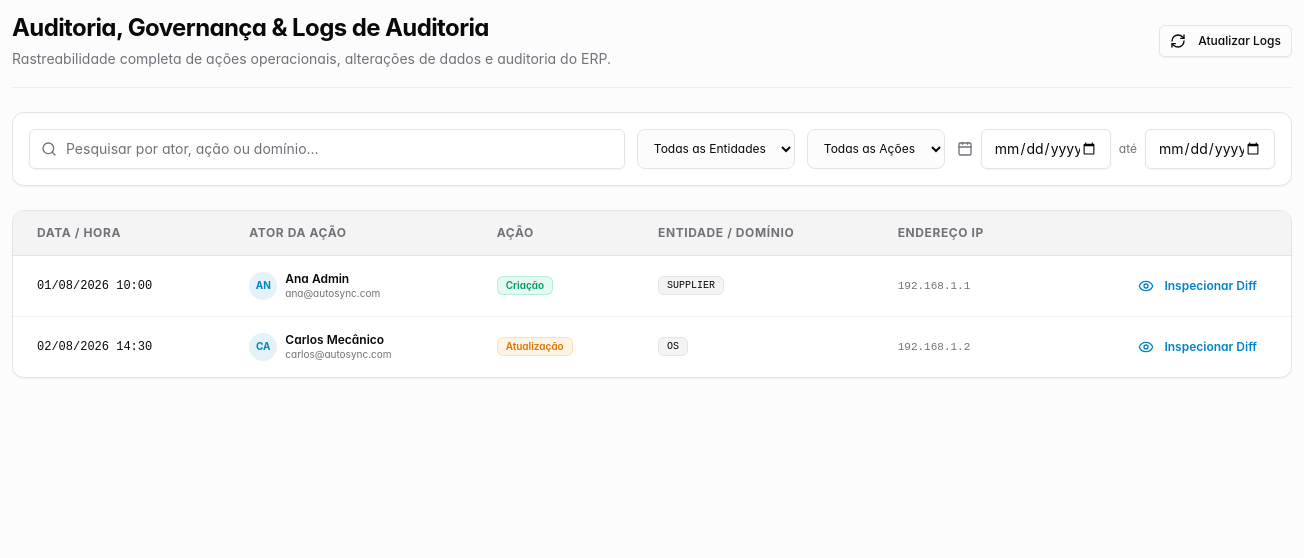
Test: Audit & AuditDiff Module (Phase 2) › 8. should render empty state when search produces no results
Expected: the text "Ana Admin" is shown, left=285, top=271, right=349, bottom=286
Type "NenhumResultado" into the field with placeholder "Pesquisar por ator, ação ou domínio...".
click(327, 149); type("NenhumResultado")  # box left=29, top=129, right=625, bottom=169
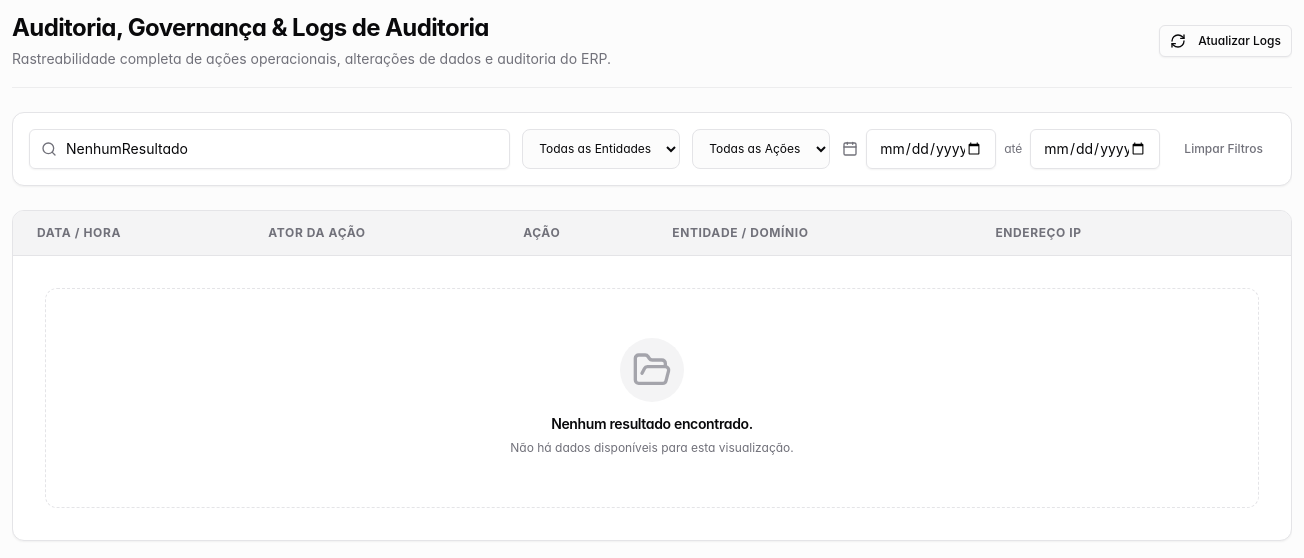
Now the text "Ana Admin" is gone
